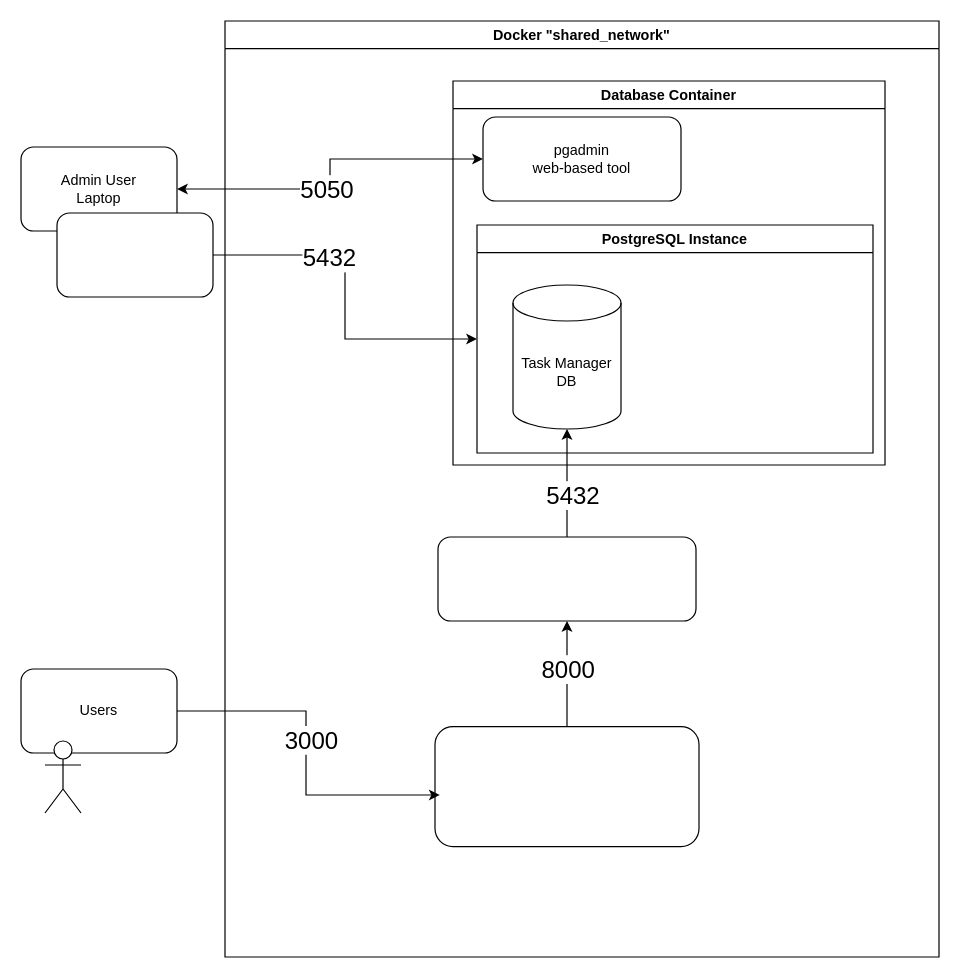
This 960x978 diagram has some shape labels left out. Each missing label, with the centre of its shape:
"Ansible Control Node" belongs at point (134, 254).
"Django Backend task_manager ORM" belongs at point (566, 578).
"Frontend" belongs at point (566, 786).
"user1" belongs at point (62, 776).
